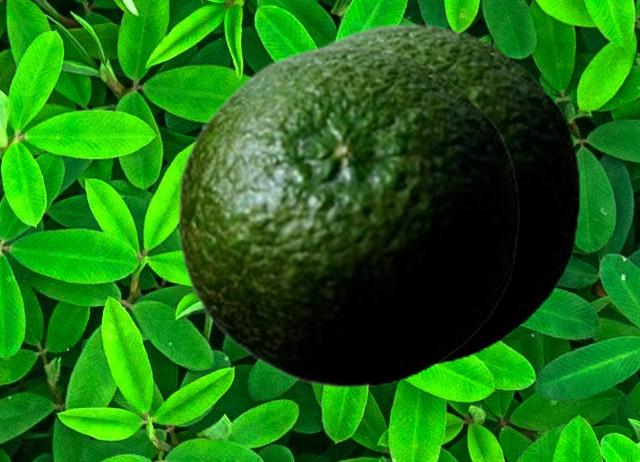calamansi: (176, 44, 518, 388), (319, 22, 580, 365)
